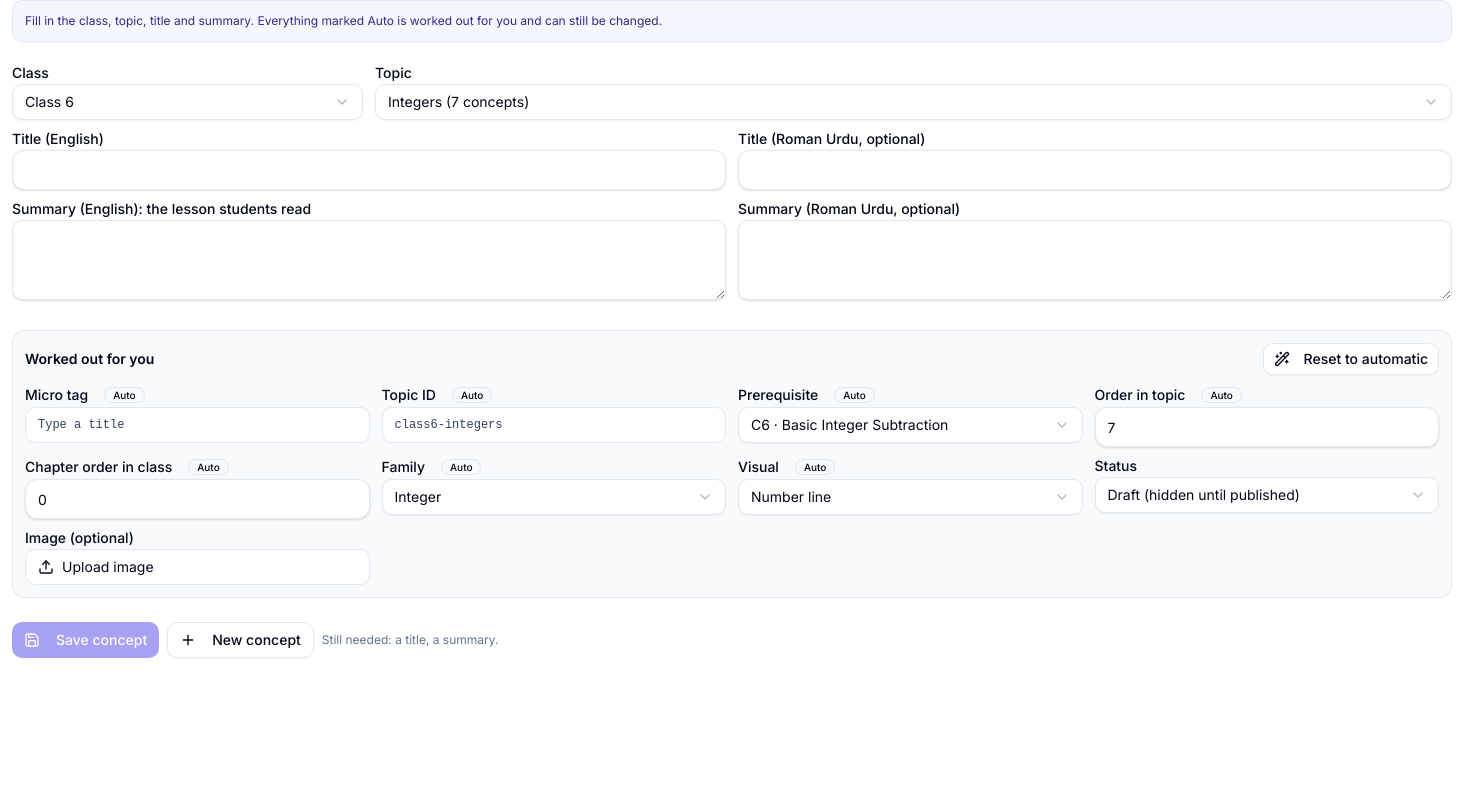
Test: ConceptEditor auto-fill › generates the micro tag from the title as the admin types
Check: the text "Type a title" is shown, box [25, 407, 370, 443]
Type "Prime Factorisation" into the field labelled "Title (English)" at (369, 170), box [12, 150, 726, 190]
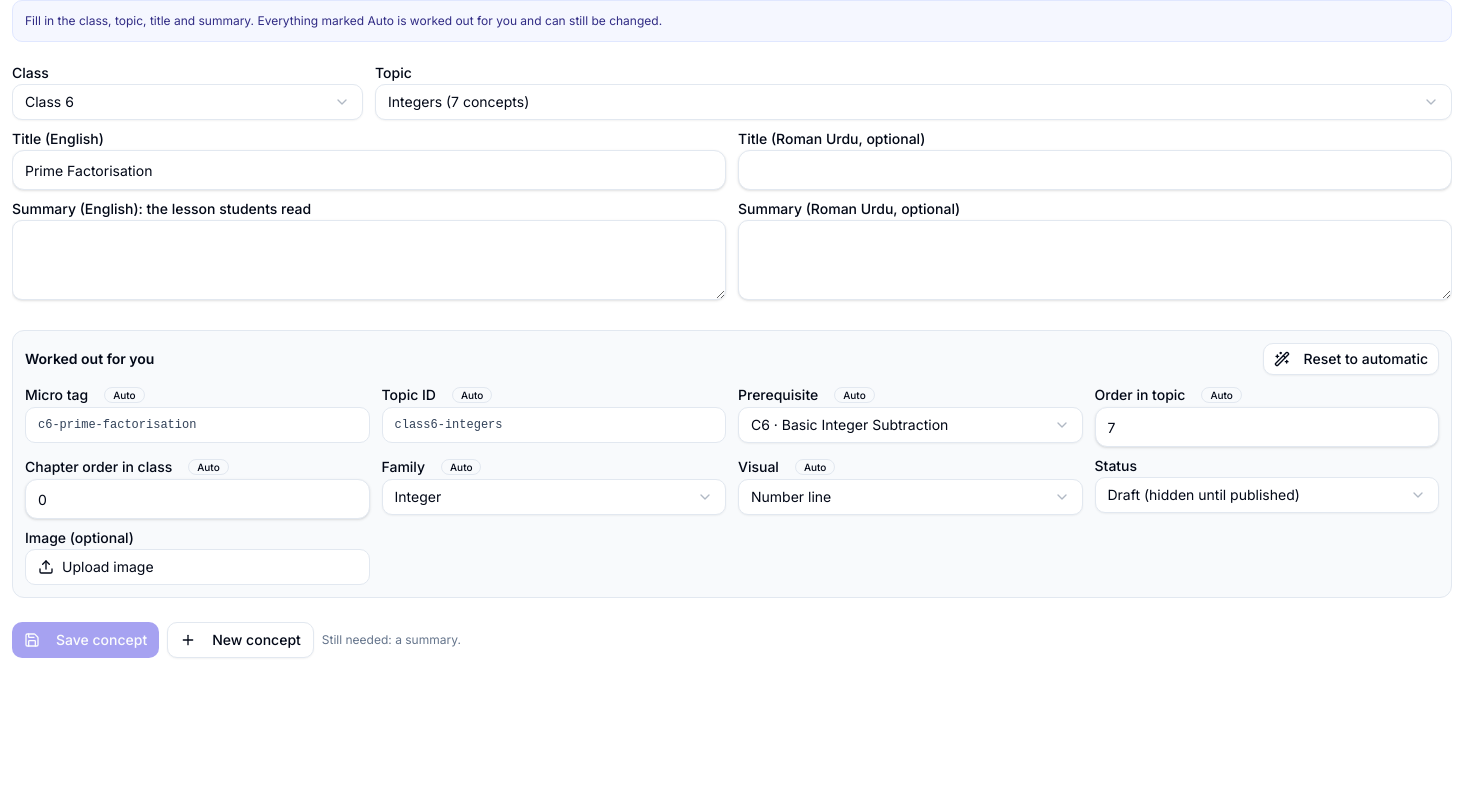
Check: the text "c6-prime-factorisation" is shown, box [25, 407, 370, 443]
